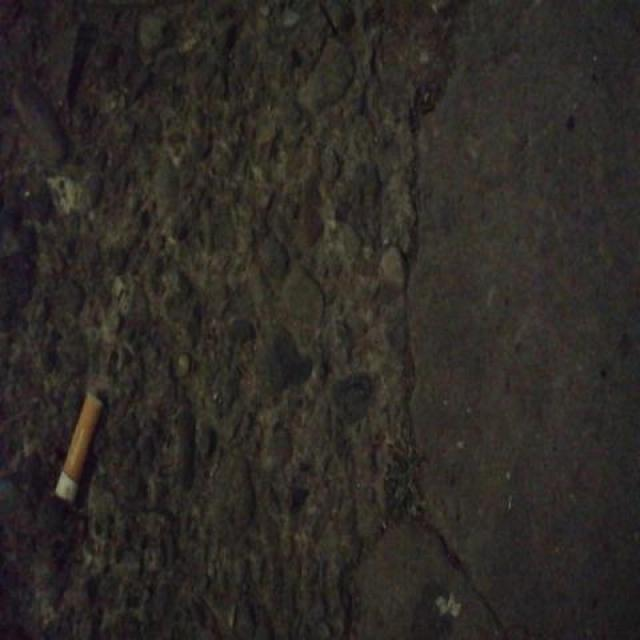non-organic waste: (54, 385, 106, 508)
